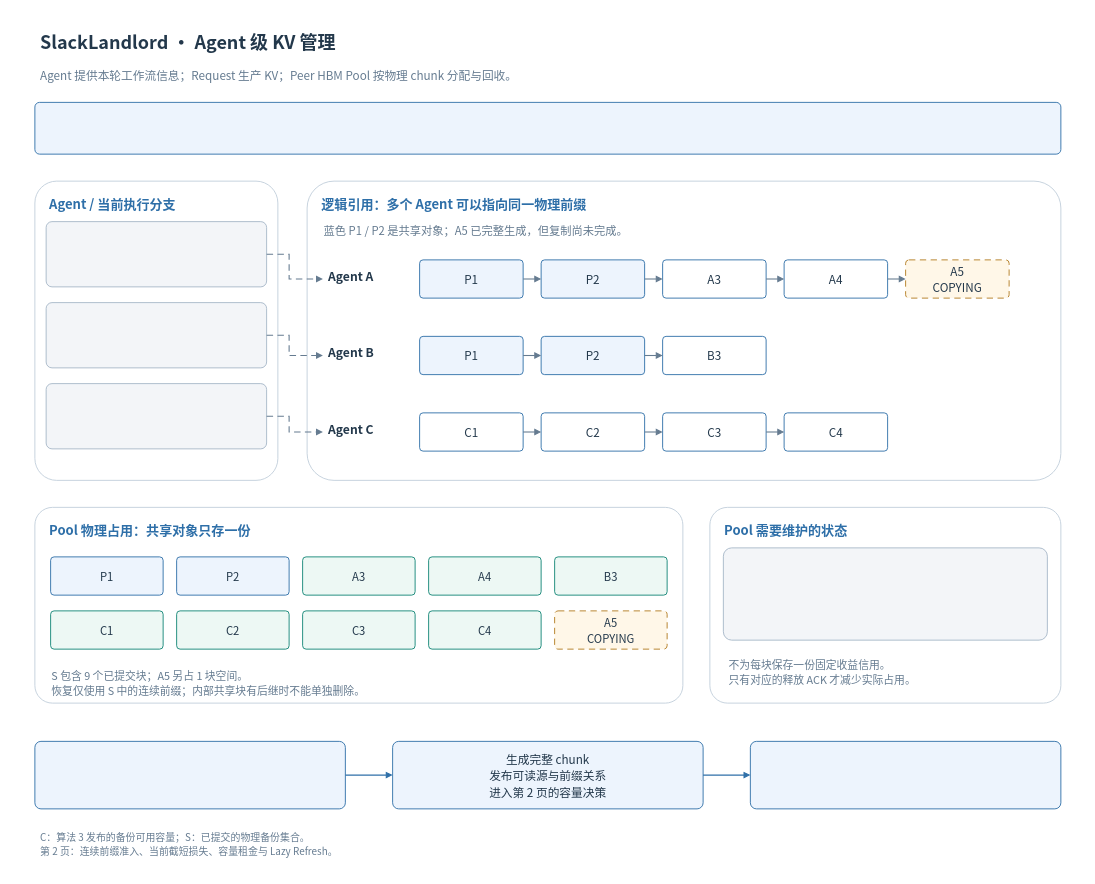
The diagram is 1095 pixels wide and 884 high, and some of its shapes have lost their labels. Here are the shapes that lost their labels. From the top down, the centre of each, then its label:
point (547, 128): 算法 3 给定容量 C；算法 2 以恢复 WCT 收益分配备份。 空间不足时只比较合法尾块；新请求只更新对应 Agent 的本轮输入。
point (156, 254): Agent A · 第 3 轮 本轮 Slack = 8 ms KV 路径 + 工作流节点 + 版本
point (156, 335): Agent B · 第 2 轮 本轮 Slack = 3 ms KV 路径 + 工作流节点 + 版本
point (156, 416): Agent C · 第 1 轮 本轮 Slack = 12 ms KV 路径 + 工作流节点 + 版本
point (885, 593): 容量与物理分配记录 COMMITTED / COPYING / RETIRING 固定读取引用与分配代次 Agent 前缀、工作流版本、收益缓存
point (190, 775): 新请求开始 替换该 Agent 的本轮输入 本轮生成过程中不调整 Slack
point (905, 775): 备份提交 / 读取结束 更新恢复前沿与固定引用 合并新事件，再次决策
